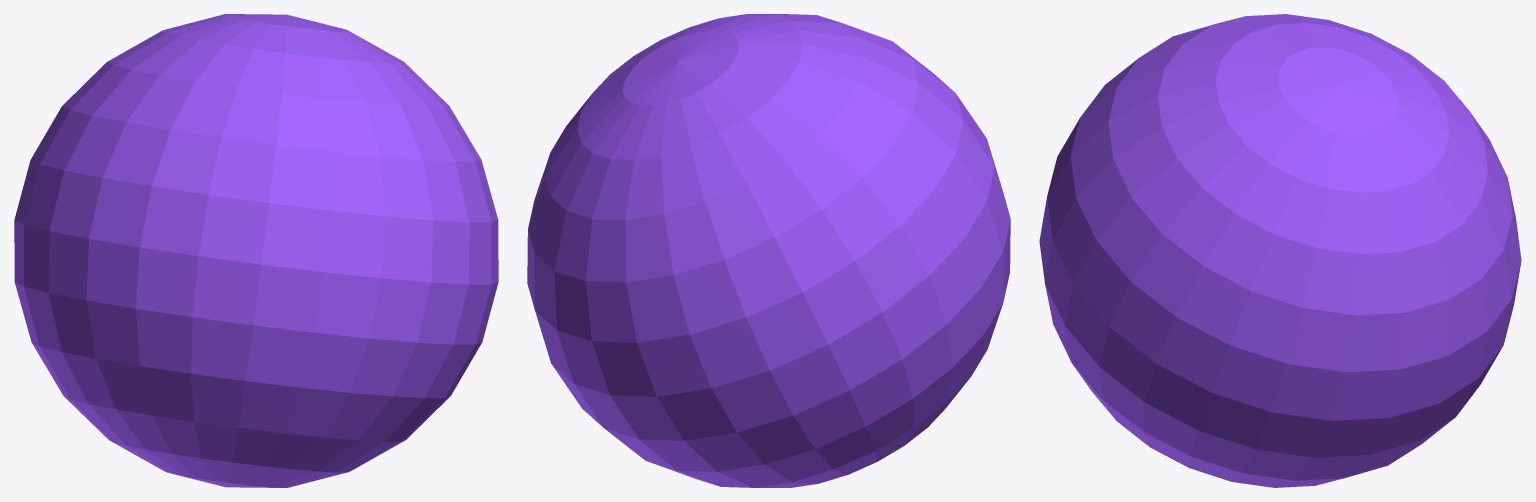
Rendered from ball2.obj.
3 views of the same model, side by side, from view 1: azimuth 30°, elevation 25°; view 2: azimuth 150°, elevation 25°; view 3: azimuth 270°, elevation 25° (orthographic). The views are drawn at different scales.
Parts seen in each view (by area): view 1: Object_179; view 2: Object_179; view 3: Object_179.
Part boxes in pixels (x1=…): Object_179: x1=14, y1=14, x2=498, y2=487; Object_179: x1=527, y1=14, x2=1010, y2=487; Object_179: x1=1039, y1=14, x2=1521, y2=487.
Size of the model in its own units: 0.0384 by 0.0375 by 0.0387.
